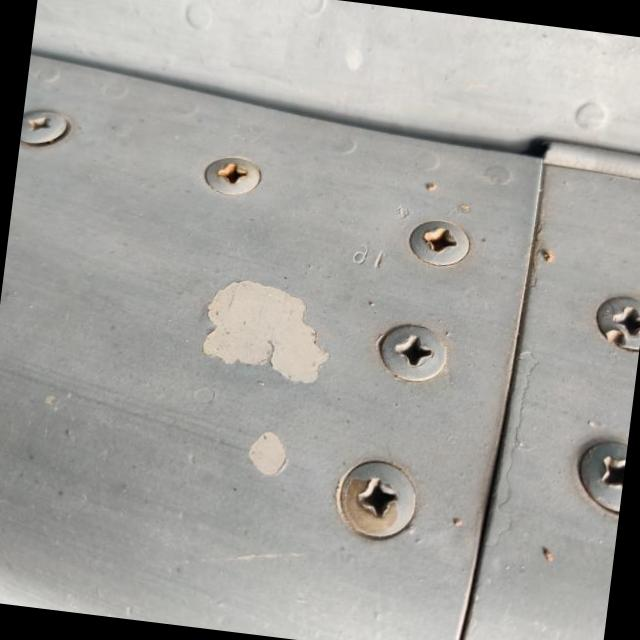Paint-off: (198, 279, 330, 387), (217, 418, 301, 496)
